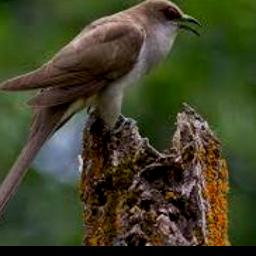Cuckoo: (0, 0, 203, 243)
